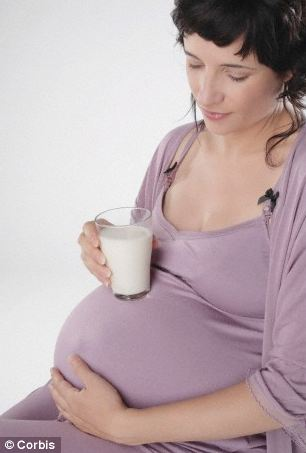glass of milk: (94, 207, 152, 300)
